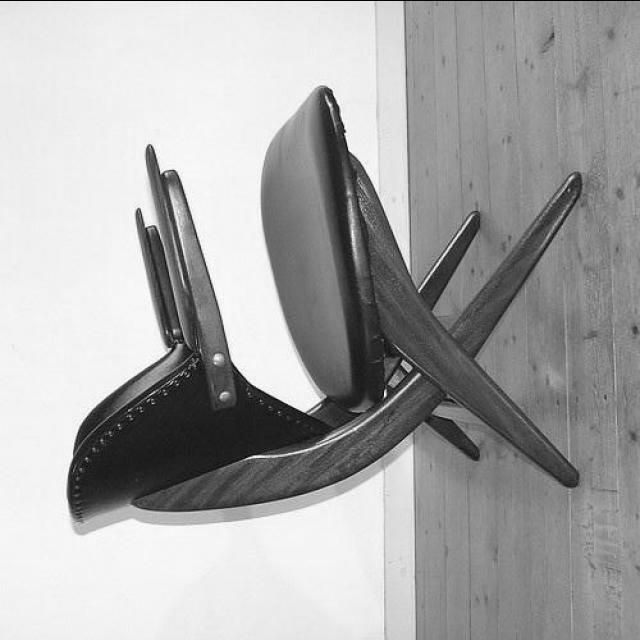chair: (68, 83, 586, 527)
